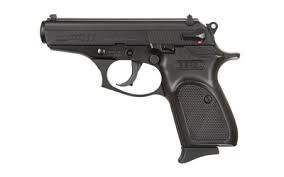gun: (39, 11, 242, 165)
